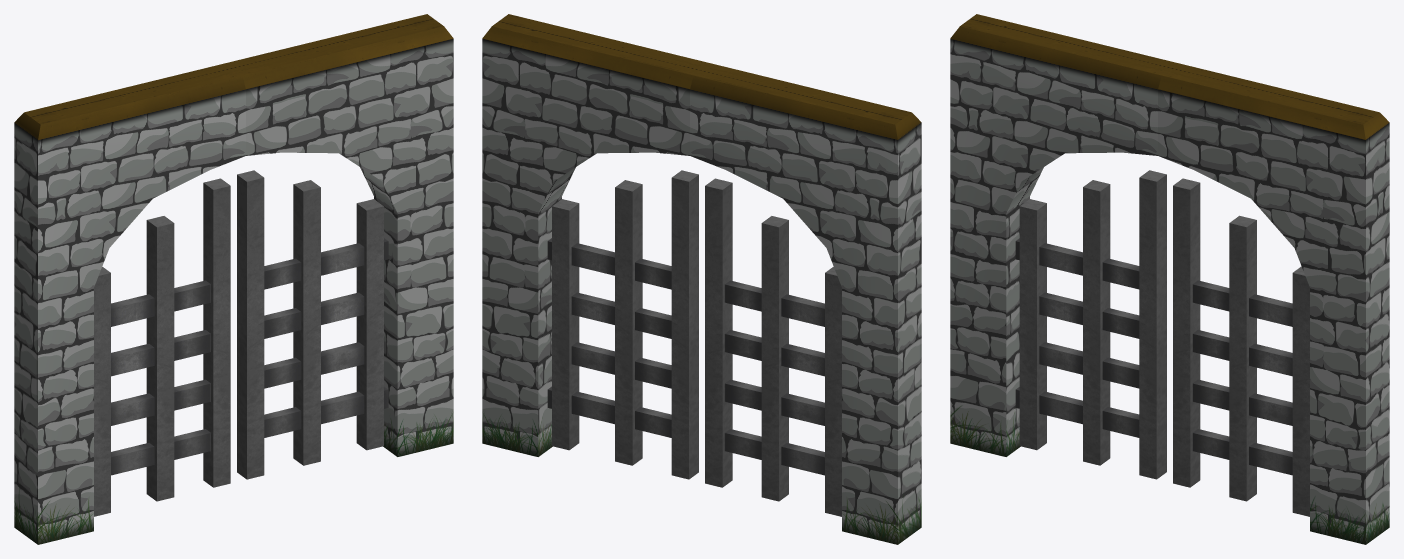
File: mod_wall_gate.fbx
3 renders of one model, left to right at view 1: azimuth 30°, elevation 25°; view 2: azimuth 150°, elevation 25°; view 3: azimuth 330°, elevation 25°, orthographic.
Parts seen in each view (by area): view 1: pCube8; view 2: pCube8; view 3: pCube8.
Part boxes in pixels (left/top/right/bottom): pCube8: left=14, top=14, right=453, bottom=544; pCube8: left=482, top=14, right=921, bottom=544; pCube8: left=950, top=14, right=1389, bottom=544.
Bounding box in the file's own units: 99.67 × 95.4 × 9.88.
